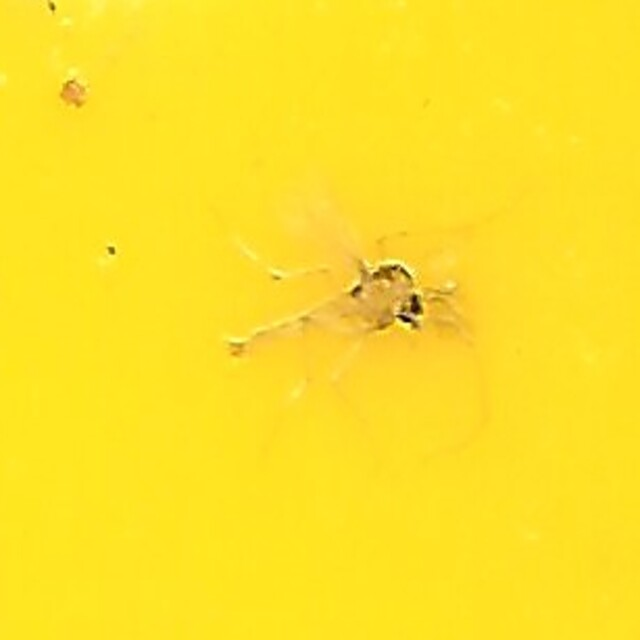Nematocera: (208, 252, 432, 388)
